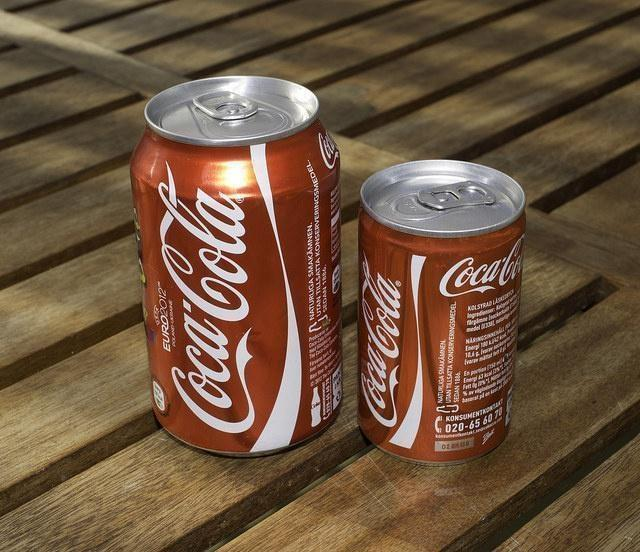tin can: (128, 74, 344, 459), (355, 158, 527, 466)
